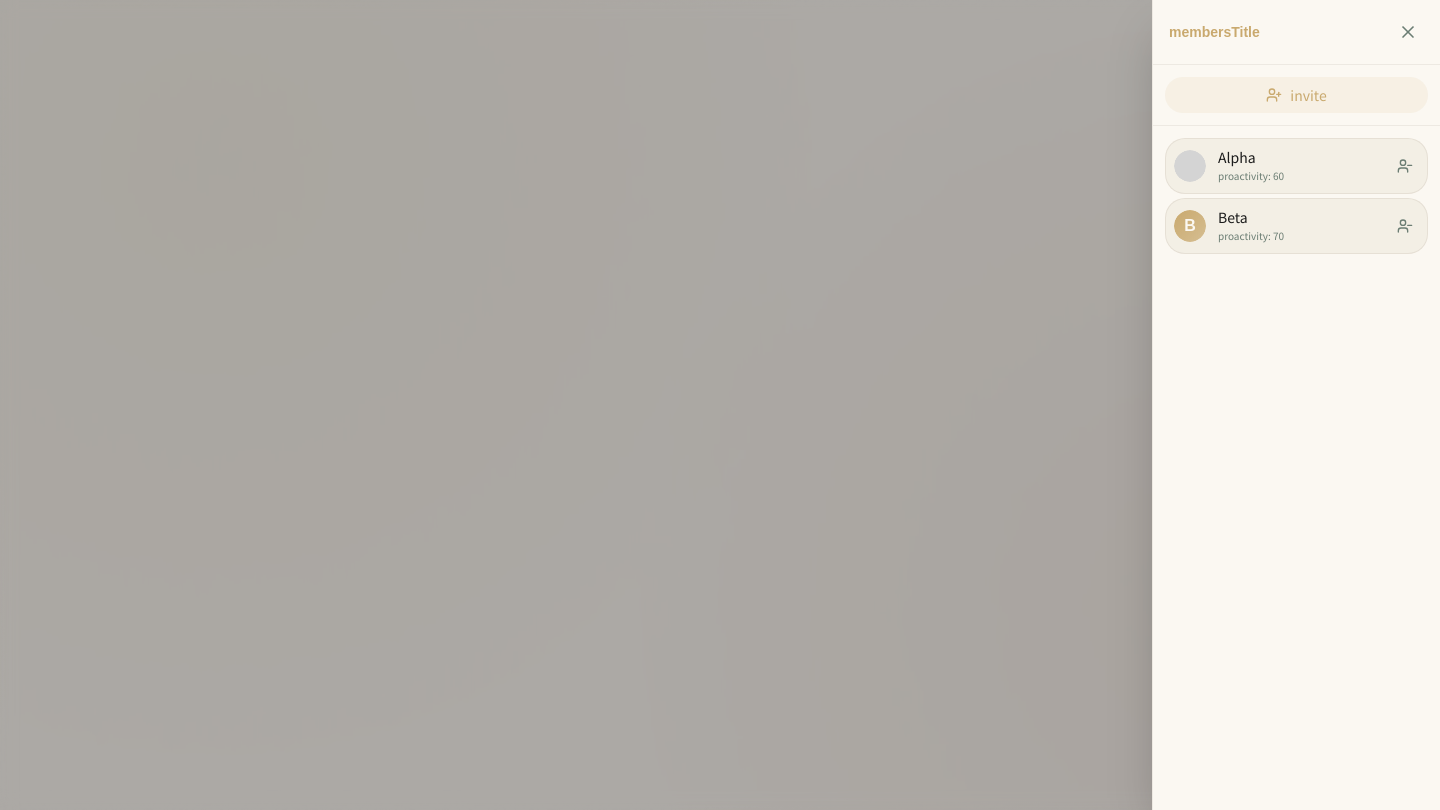
it: GroupMembersPanel kick flow › keeps the member when the dialog is cancelled
The image size is (1440, 810).
Click the button named "kick" next to "60".
click(1405, 166)  # box [1391,152,1419,180]
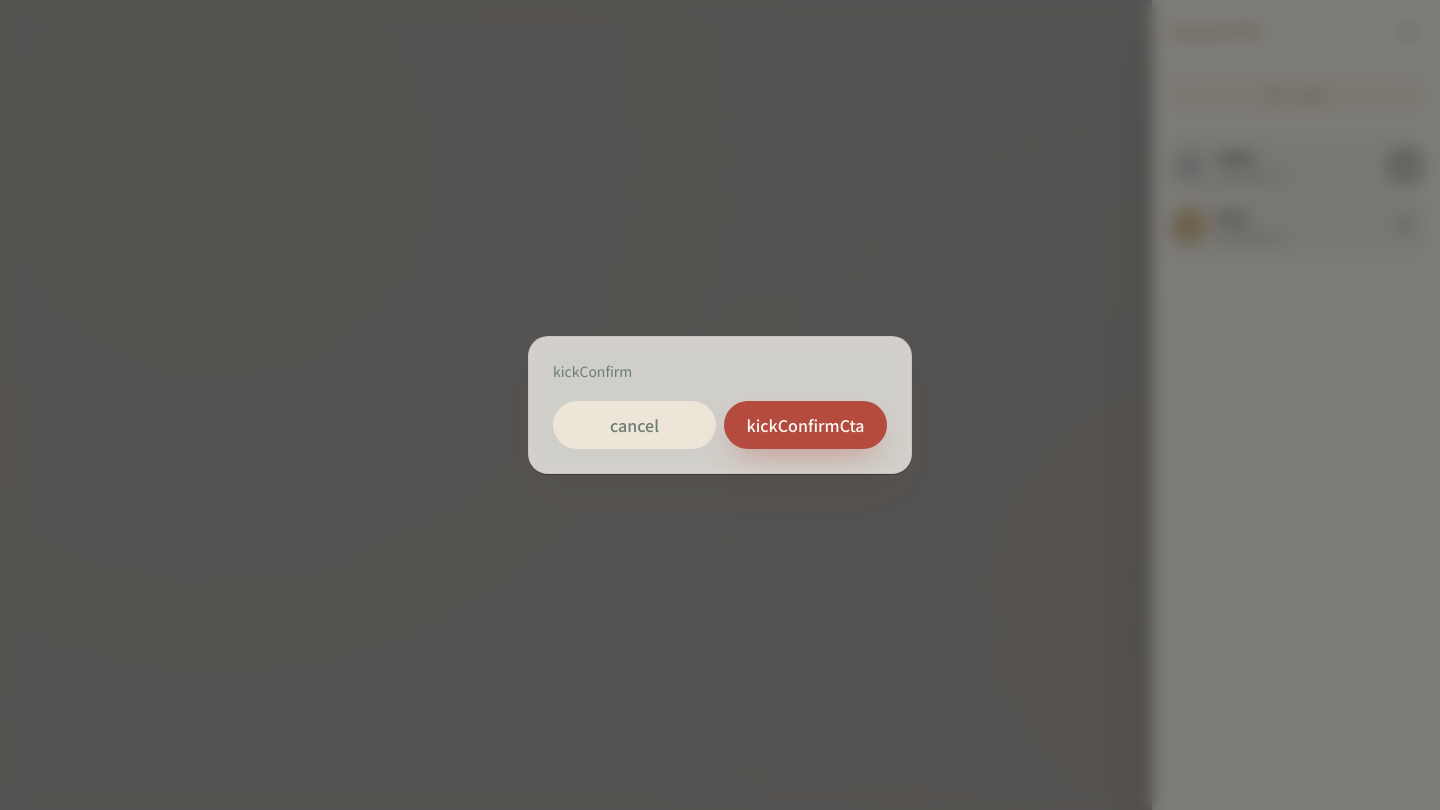
Click the button "cancel".
click(634, 425)  # box [553,401,716,449]
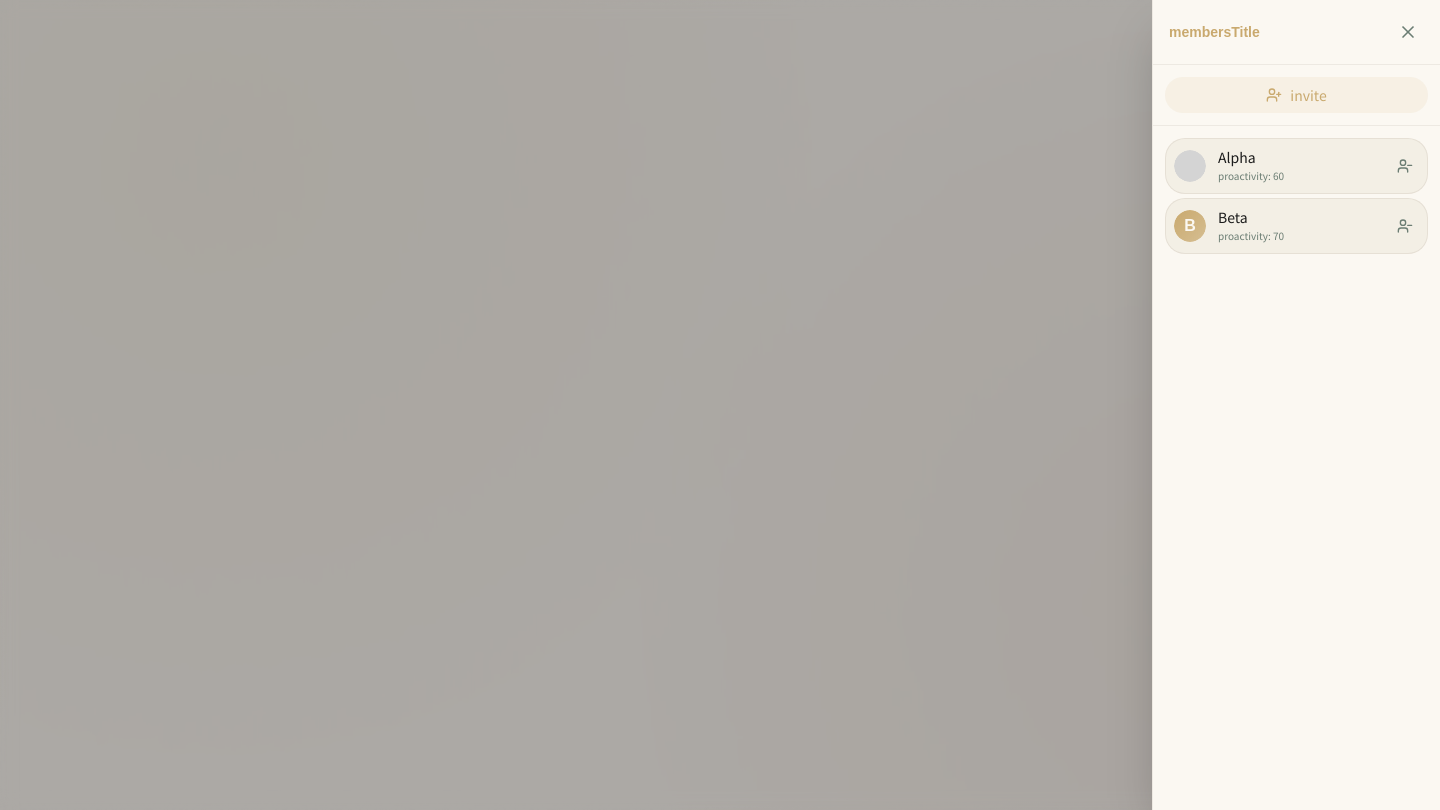
Check: the dialog is gone
